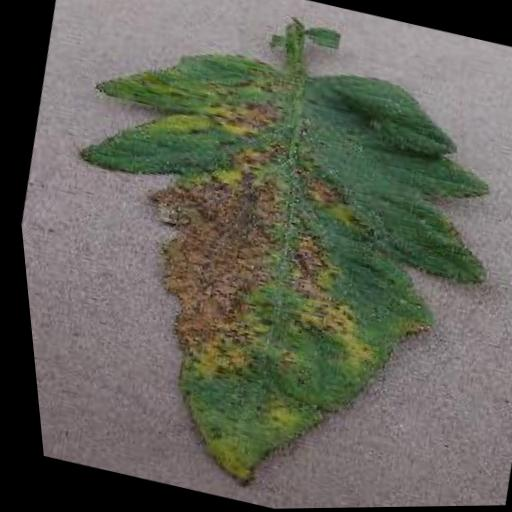Bacterial Spot: (1, 7, 512, 512)
